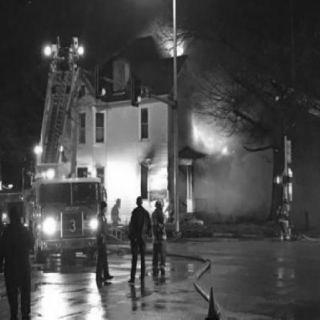Fire: (185, 101, 242, 159)
other: (27, 140, 67, 184)
